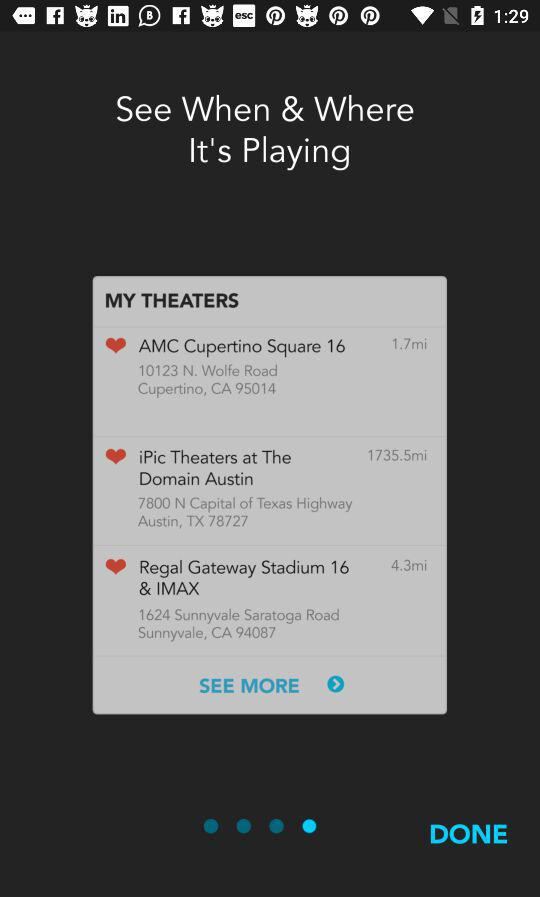Image: (93, 276, 448, 715)
PageIndicator: (202, 817, 319, 836)
Text: (117, 95, 415, 172), (429, 823, 508, 846)
UpperTaskBar: (1, 1, 540, 33)
